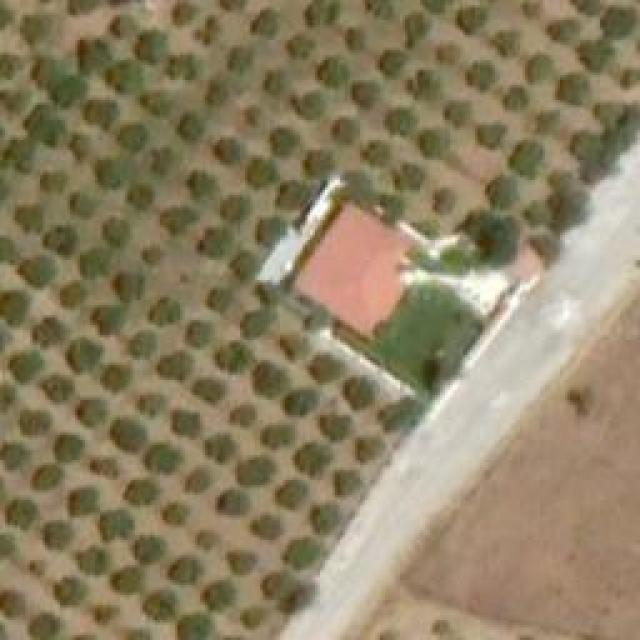Tree: (463, 204, 521, 264), (545, 170, 592, 232), (23, 103, 66, 146), (78, 37, 111, 75), (17, 255, 55, 288), (7, 350, 45, 383), (0, 138, 35, 173), (65, 338, 100, 373), (378, 400, 414, 433), (0, 287, 32, 324), (343, 377, 378, 410), (507, 140, 545, 170), (33, 315, 66, 348), (43, 225, 78, 255), (253, 363, 283, 398), (573, 133, 603, 168), (50, 75, 85, 105), (258, 420, 295, 448), (285, 390, 321, 418), (595, 100, 635, 125), (265, 575, 298, 605), (270, 128, 303, 158), (488, 175, 518, 208), (38, 375, 73, 403), (148, 445, 183, 473), (275, 180, 310, 208), (578, 42, 613, 70), (13, 205, 46, 233), (112, 418, 140, 451), (108, 65, 141, 93), (558, 75, 591, 103), (138, 33, 168, 63), (33, 58, 63, 88), (515, 198, 547, 226), (488, 30, 523, 55), (145, 590, 175, 618), (100, 510, 130, 538), (303, 150, 333, 178), (220, 197, 250, 225), (605, 7, 635, 35), (178, 615, 211, 640), (295, 445, 328, 470), (163, 208, 196, 233), (203, 230, 236, 255), (408, 73, 441, 98), (545, 18, 580, 41), (57, 577, 85, 605), (45, 520, 73, 548), (195, 15, 223, 43), (257, 217, 285, 245), (238, 460, 271, 483), (215, 345, 248, 368), (23, 13, 48, 43), (38, 168, 68, 193), (205, 583, 235, 608), (95, 308, 125, 333), (85, 100, 115, 125), (308, 0, 338, 25), (293, 90, 323, 115), (248, 160, 278, 185), (60, 283, 88, 308), (7, 500, 35, 525), (3, 442, 28, 470), (80, 548, 108, 573), (95, 160, 123, 185), (320, 58, 348, 83), (332, 118, 360, 143), (395, 162, 420, 190), (525, 55, 553, 80), (0, 90, 30, 113), (158, 355, 188, 378), (125, 480, 155, 503), (310, 358, 340, 381), (165, 58, 195, 81), (65, 135, 88, 163), (30, 615, 58, 638), (20, 413, 48, 436), (32, 465, 60, 488), (170, 413, 198, 436), (70, 490, 98, 513), (80, 250, 108, 273), (142, 93, 170, 116), (252, 13, 280, 36), (70, 193, 95, 218), (0, 590, 25, 615), (55, 435, 80, 460), (115, 568, 140, 593), (208, 435, 233, 460), (105, 220, 130, 245), (353, 80, 378, 105), (460, 5, 485, 30), (468, 63, 493, 88), (193, 380, 223, 400), (478, 125, 508, 145), (0, 55, 25, 78), (280, 483, 305, 506), (150, 300, 175, 323), (193, 173, 218, 196), (123, 125, 146, 150), (173, 0, 196, 25), (265, 70, 290, 93), (390, 108, 413, 133), (380, 50, 405, 73), (503, 85, 528, 108), (172, 560, 200, 580), (287, 543, 315, 563), (242, 310, 270, 330), (287, 35, 315, 55), (407, 13, 425, 43), (130, 333, 153, 356), (138, 538, 161, 561), (188, 468, 211, 491), (130, 185, 153, 208), (322, 417, 350, 435), (365, 0, 393, 18), (80, 403, 105, 423), (103, 368, 128, 388), (358, 438, 383, 458), (233, 255, 258, 275), (153, 150, 173, 175), (215, 140, 240, 160), (535, 113, 560, 133), (65, 0, 98, 15), (568, 0, 601, 15), (223, 493, 246, 513), (315, 508, 335, 531), (278, 335, 298, 358), (190, 323, 210, 346), (208, 83, 231, 103), (228, 48, 248, 71), (365, 140, 388, 160), (425, 133, 448, 153), (448, 103, 471, 123), (435, 190, 458, 210), (0, 238, 18, 263), (255, 520, 280, 538), (122, 275, 140, 300), (140, 397, 163, 415), (337, 473, 355, 496), (233, 407, 256, 425), (208, 290, 231, 308), (165, 503, 185, 523), (180, 118, 200, 138), (93, 460, 118, 475), (230, 555, 255, 570), (198, 530, 218, 548), (115, 17, 135, 35), (245, 105, 263, 125), (438, 42, 458, 60), (0, 385, 15, 408), (245, 607, 263, 625), (252, 285, 270, 303), (345, 28, 360, 48), (95, 605, 113, 620), (522, 0, 540, 15), (622, 70, 640, 85)
